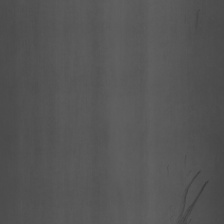water_spot: (172, 161, 212, 224)
